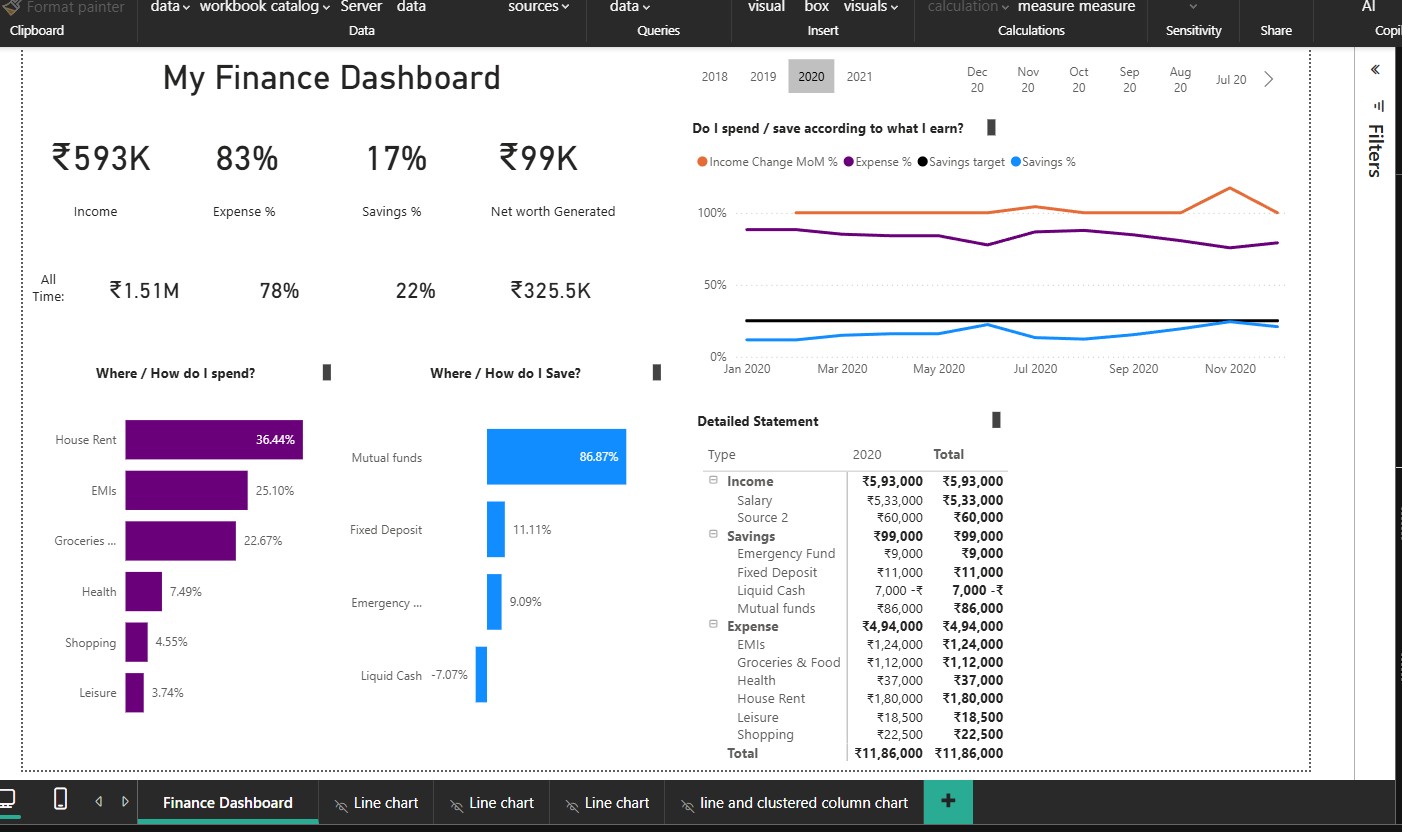

The dashboard page shown, as its layout file describes it:
{"tool":"powerbi","page":{"name":"Finance  Dashboard","canvas":[1280,720],"ordinal":0},"visuals":[{"type":"card","fields":{"Values":["Key Measures.Total Income"]},"box":[8.2,44.5,137.6,126.7],"z":0},{"type":"card","fields":{"Values":["Key Measures.Expense %"]},"box":[153.7,44.5,137.6,126.7],"z":1000},{"type":"card","fields":{"Values":["Key Measures.Savings %"]},"box":[302.2,44.5,137.6,126.7],"z":2000},{"type":"card","fields":{"Values":["Key Measures.Total Saving"]},"box":[443.7,44.5,137.6,126.7],"z":3000},{"type":"textbox","box":[12.2,149.4,119.8,29.7],"z":4000},{"type":"textbox","box":[160.6,149.4,119.8,29.7],"z":5000},{"type":"textbox","box":[307.1,149.4,119.8,29.7],"z":6000},{"type":"textbox","box":[448.9,149.4,157.4,41.6],"z":7000},{"type":"slicer","fields":{"Values":["FinData.Year"]},"box":[640,5.2,240.4,47.6],"z":8000},{"type":"slicer","fields":{"Values":["FinData.Date"]},"box":[899.6,4.9,351.3,47.5],"z":9000},{"type":"card","fields":{"Values":["Key Measures.Total Saving"]},"box":[456.6,179.2,137.6,126.7],"z":10000},{"type":"card","fields":{"Values":["Key Measures.Savings %"]},"box":[321.7,179.2,137.6,126.7],"z":11000},{"type":"card","fields":{"Values":["Key Measures.Expense %"]},"box":[186.7,179.2,137.6,126.7],"z":12000},{"type":"card","fields":{"Values":["Key Measures.Total Income"]},"box":[51.8,179.1,137.6,126.7],"z":13000},{"type":"textbox","box":[0.6,216.7,50.5,52.5],"z":14000},{"type":"card","fields":{"Values":["Key Measures.Title"]},"box":[59.4,1,486.9,52.5],"z":15000},{"type":"clusteredBarChart","fields":{"Category":["FinData.Component"],"Y":["Key Measures.Total Expense"]},"box":[10.9,338.5,313.7,350.4],"z":16000},{"type":"textbox","box":[0,311.4,311.4,26.8],"z":17000},{"type":"clusteredBarChart","fields":{"Category":["FinData.Component"],"Y":["Key Measures.Total Saving"]},"box":[307.8,338.5,344.4,350.4],"z":18000},{"type":"textbox","box":[328.6,311.4,311.4,26.8],"z":19000},{"type":"lineChart","fields":{"Y":["Key Measures.Income Change MoM %","Key Measures.Expense %","Key Measures.Savings target","Key Measures.Savings %"],"Category":["FinData.Date"]},"box":[665.9,94.3,614.1,243.9],"z":20000},{"type":"textbox","box":[660.8,67.5,312.2,26.8],"z":21000},{"type":"pivotTable","fields":{"Values":["Key Measures.Values"],"Columns":["FinData.Year","FinData.Date"],"Rows":["Type.Type","FinData.Component"]},"box":[672,390.9,604.5,329.5],"z":22000},{"type":"textbox","box":[665.9,358.1,312.2,26.8],"z":23000}]}

Visuals, with their boxes on the page's 1280x720 design canvas (x1, y1, x2, y2). These are canvas units, not pixel positions in the 1402x832 screenshot, which may show the page scaled, cropped or inside an application window:
card - Key Measures.Total Income: 8/44/146/171
card - Key Measures.Expense %: 154/44/291/171
card - Key Measures.Savings %: 302/44/440/171
card - Key Measures.Total Saving: 444/44/581/171
textbox: 12/149/132/179
textbox: 161/149/280/179
textbox: 307/149/427/179
textbox: 449/149/606/191
slicer - FinData.Year: 640/5/880/53
slicer - FinData.Date: 900/5/1251/52
card - Key Measures.Total Saving: 457/179/594/306
card - Key Measures.Savings %: 322/179/459/306
card - Key Measures.Expense %: 187/179/324/306
card - Key Measures.Total Income: 52/179/189/306
textbox: 1/217/51/269
card - Key Measures.Title: 59/1/546/54
clusteredBarChart - FinData.Component x Key Measures.Total Expense: 11/338/325/689
textbox: 0/311/311/338
clusteredBarChart - FinData.Component x Key Measures.Total Saving: 308/338/652/689
textbox: 329/311/640/338
lineChart - Key Measures.Income Change MoM % x Key Measures.Expense %: 666/94/1280/338
textbox: 661/68/973/94
pivotTable - Key Measures.Values x FinData.Year: 672/391/1276/720
textbox: 666/358/978/385
